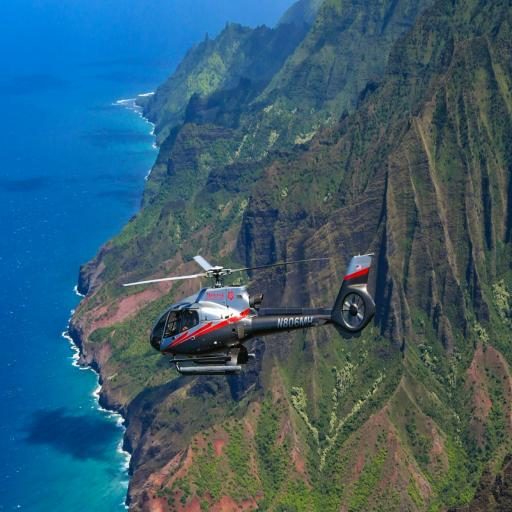helicopter: (126, 255, 393, 377)
